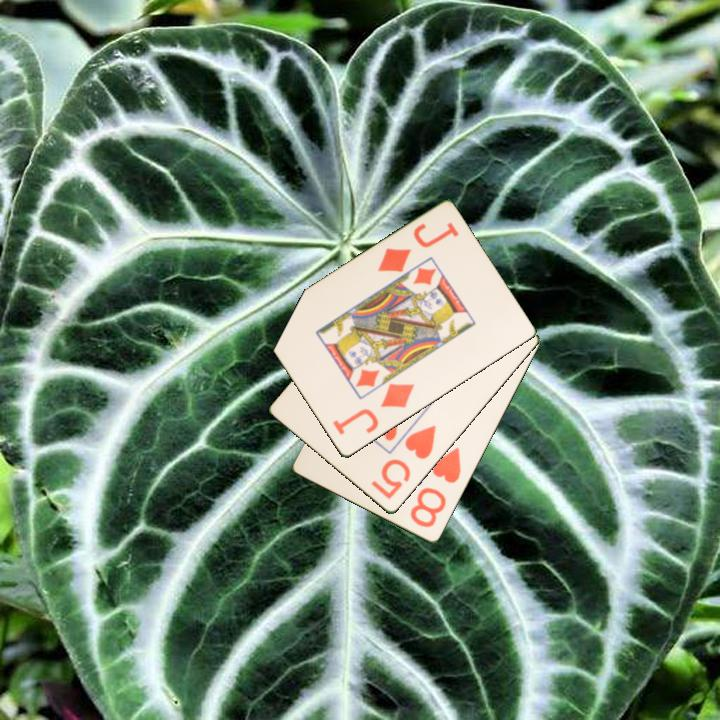5h: (367, 422, 439, 503)
8h: (407, 444, 464, 531)
Jd: (329, 380, 417, 438), (373, 219, 462, 276)
